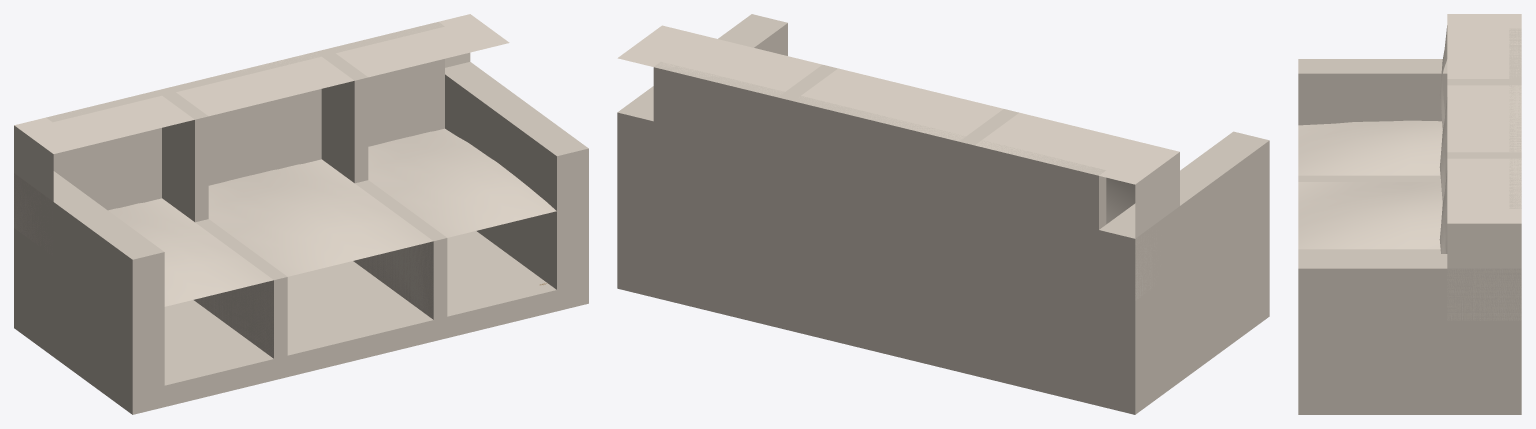
Rendered from sofa.glb.
3 renders of one model, left to right at view 1: azimuth 30°, elevation 25°; view 2: azimuth 150°, elevation 25°; view 3: azimuth 270°, elevation 25°, orthographic. The views are drawn at different scales.
Bounding box in the file's own units: 2 × 0.85 × 0.9.
